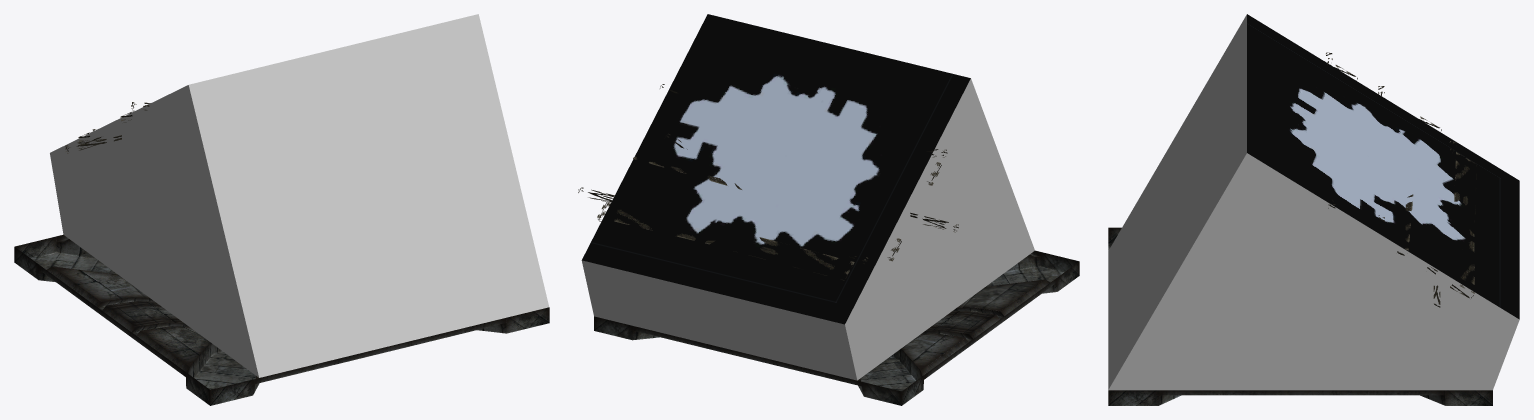
Rendered from arched_broken.dae.
3 renders of one model, left to right at view 1: azimuth 30°, elevation 25°; view 2: azimuth 150°, elevation 25°; view 3: azimuth 270°, elevation 25°, orthographic. The views are drawn at different scales.
Parts seen in each view (by area): view 1: polySurface24, polySurface25; view 2: polySurface23, polySurface24, polySurface25, polySurface55; view 3: polySurface24, polySurface23, polySurface25, polySurface55.
Boxes of the visible parts, bbox=[...] form: polySurface24: bbox=[50, 14, 548, 377]; polySurface25: bbox=[14, 234, 549, 405]; polySurface23: bbox=[582, 14, 970, 324]; polySurface24: bbox=[581, 79, 1034, 380]; polySurface25: bbox=[594, 250, 1079, 405]; polySurface55: bbox=[578, 84, 958, 280]; polySurface24: bbox=[1108, 14, 1519, 390]; polySurface23: bbox=[1247, 14, 1519, 319]; polySurface25: bbox=[1108, 227, 1492, 405]; polySurface55: bbox=[1324, 52, 1476, 307].
Bounding box in the file's own units: 11.41 × 8.18 × 10.7.
